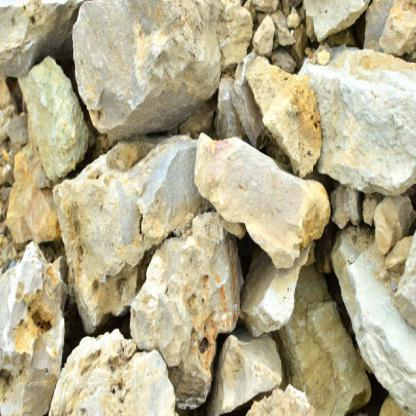Sedimentary_Limestone: (46, 119, 240, 324), (70, 4, 272, 133), (296, 42, 415, 213), (198, 134, 318, 273), (336, 234, 416, 414), (47, 336, 181, 415)
